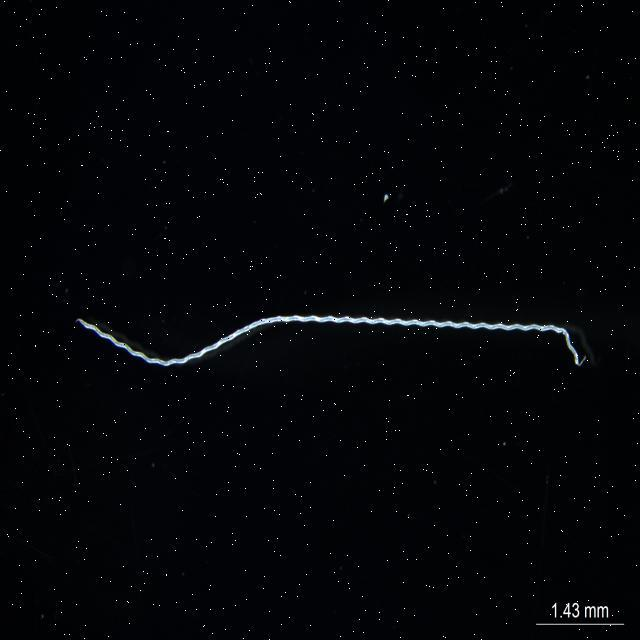fiber: (70, 305, 597, 381)
